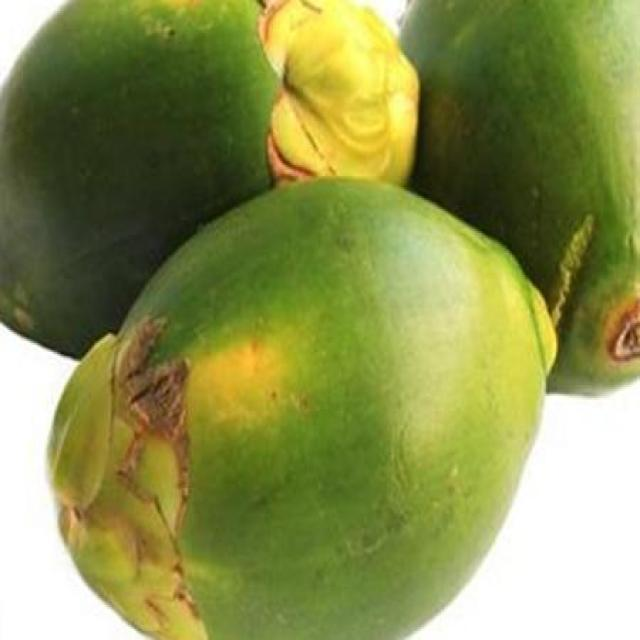good: (43, 176, 559, 638), (0, 0, 280, 359), (397, 0, 639, 398), (259, 0, 420, 185)
